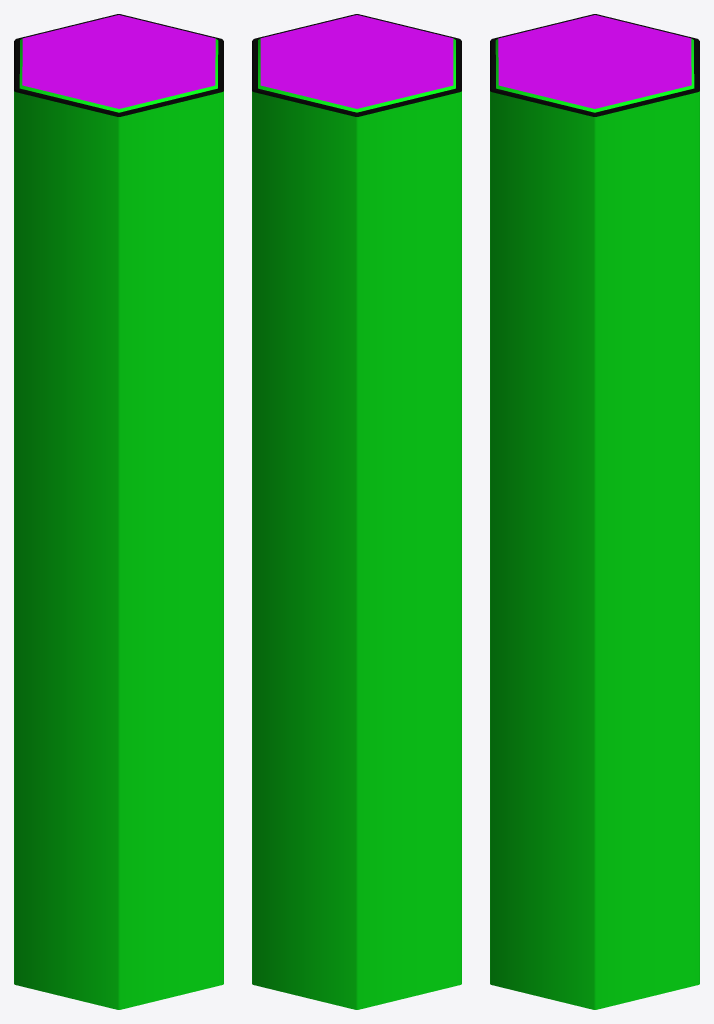
File: WallHex.FBX
3 views of the same model, side by side, from view 1: azimuth 30°, elevation 25°; view 2: azimuth 150°, elevation 25°; view 3: azimuth 270°, elevation 25° (orthographic).
Parts seen in each view (by area): view 1: Object138; view 2: Object138; view 3: Object138.
Boxes of the visible parts, bbox=[...] form: Object138: bbox=[14, 14, 223, 1009]; Object138: bbox=[252, 14, 461, 1009]; Object138: bbox=[490, 14, 699, 1009].
Size of the model in its own units: 250 by 218 by 1028.
